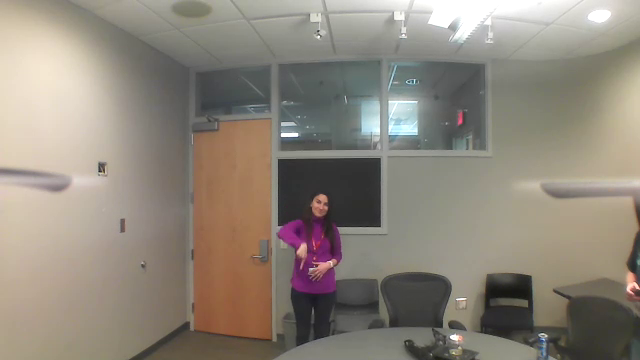down: (292, 235, 309, 275)
